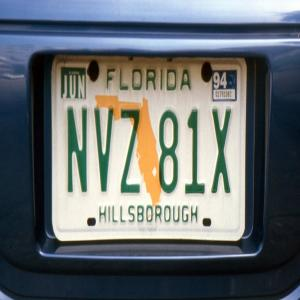Vehicle-registration-plate: (52, 55, 250, 243)
